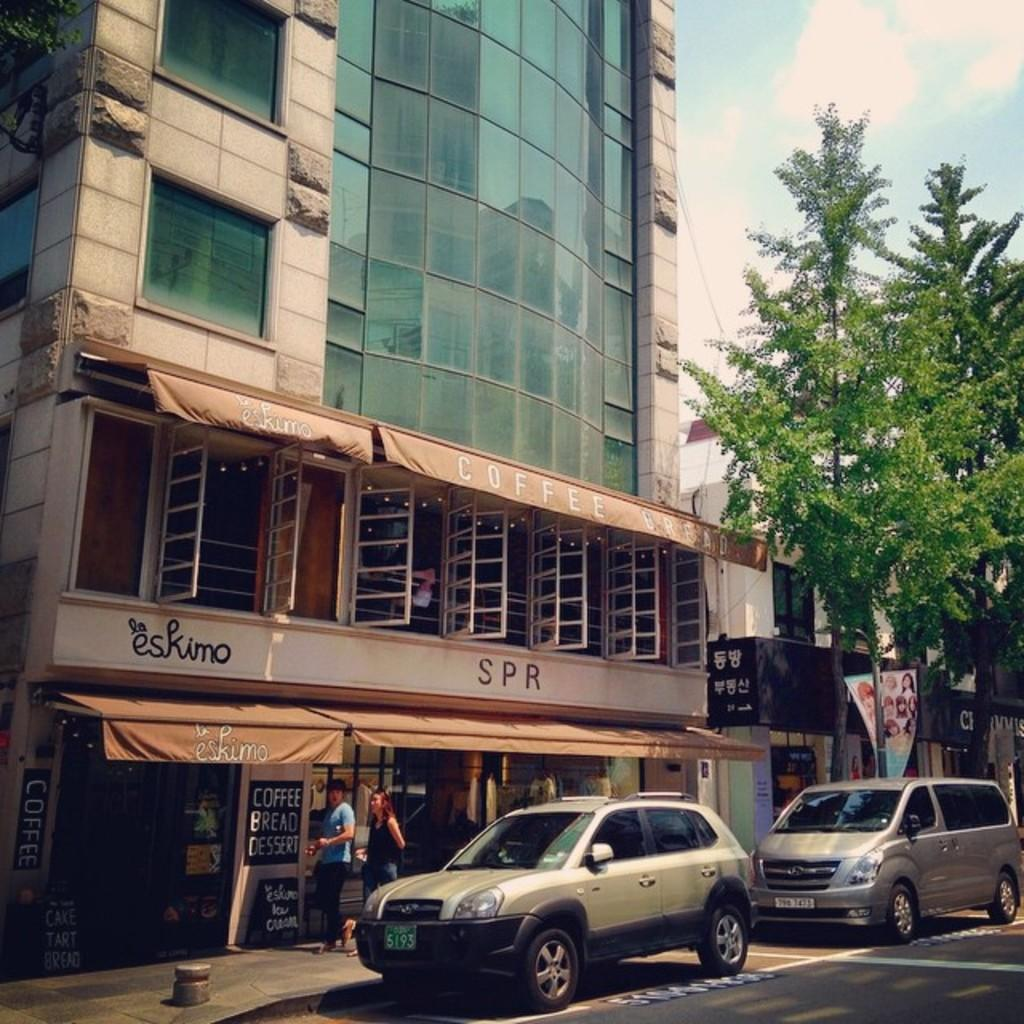vehicle: (351, 793, 754, 1007), (753, 780, 1021, 943)
